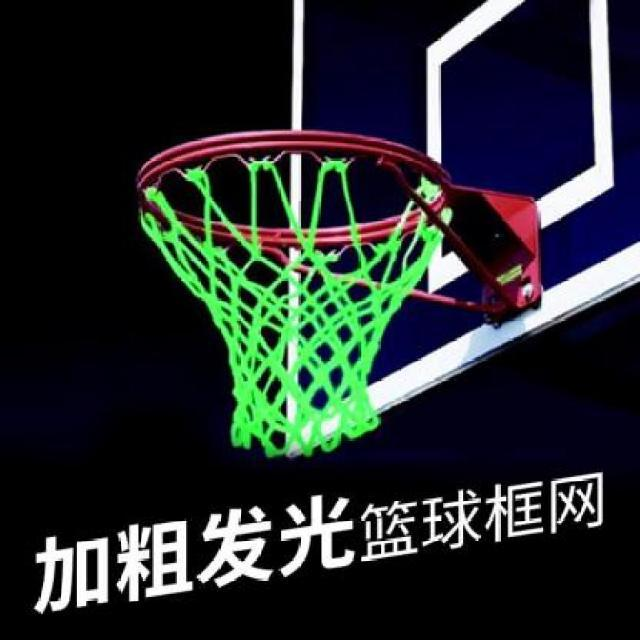rim: (134, 130, 453, 458)
